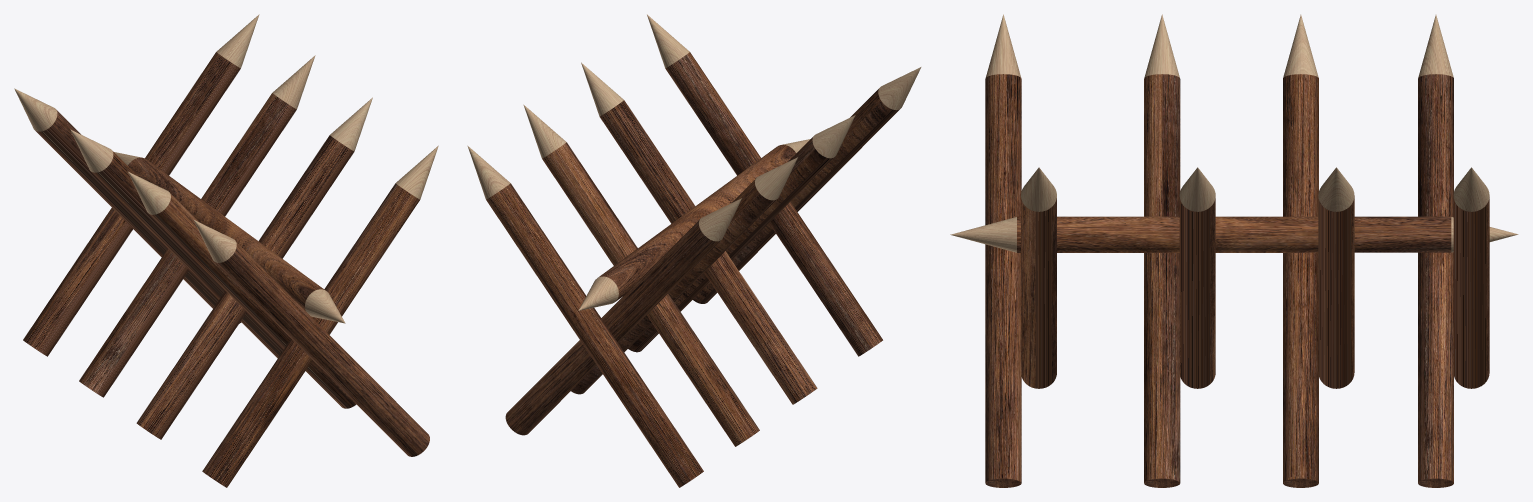
Rendered from Barricade.fbx.
3 renders of one model, left to right at view 1: azimuth 30°, elevation 25°; view 2: azimuth 150°, elevation 25°; view 3: azimuth 270°, elevation 25°, orthographic. The views are drawn at different scales.
Visible parts, largest first — view 1: Cone, Cone.001, Cone.002; view 2: Cone, Cone.001, Cone.002; view 3: Cone.001, Cone, Cone.002.
Boxes of the visible parts, x1,y1,x2,y2 form: Cone: (23,14,438,487); Cone.001: (14,88,429,456); Cone.002: (114,152,345,323); Cone: (467,14,882,487); Cone.001: (505,67,921,435); Cone.002: (578,139,810,310); Cone.001: (985,14,1453,487); Cone: (1021,167,1489,388); Cone.002: (950,216,1518,252).
Size of the model in its own units: 129 by 136 by 202.
2 materials, 2 textured.
